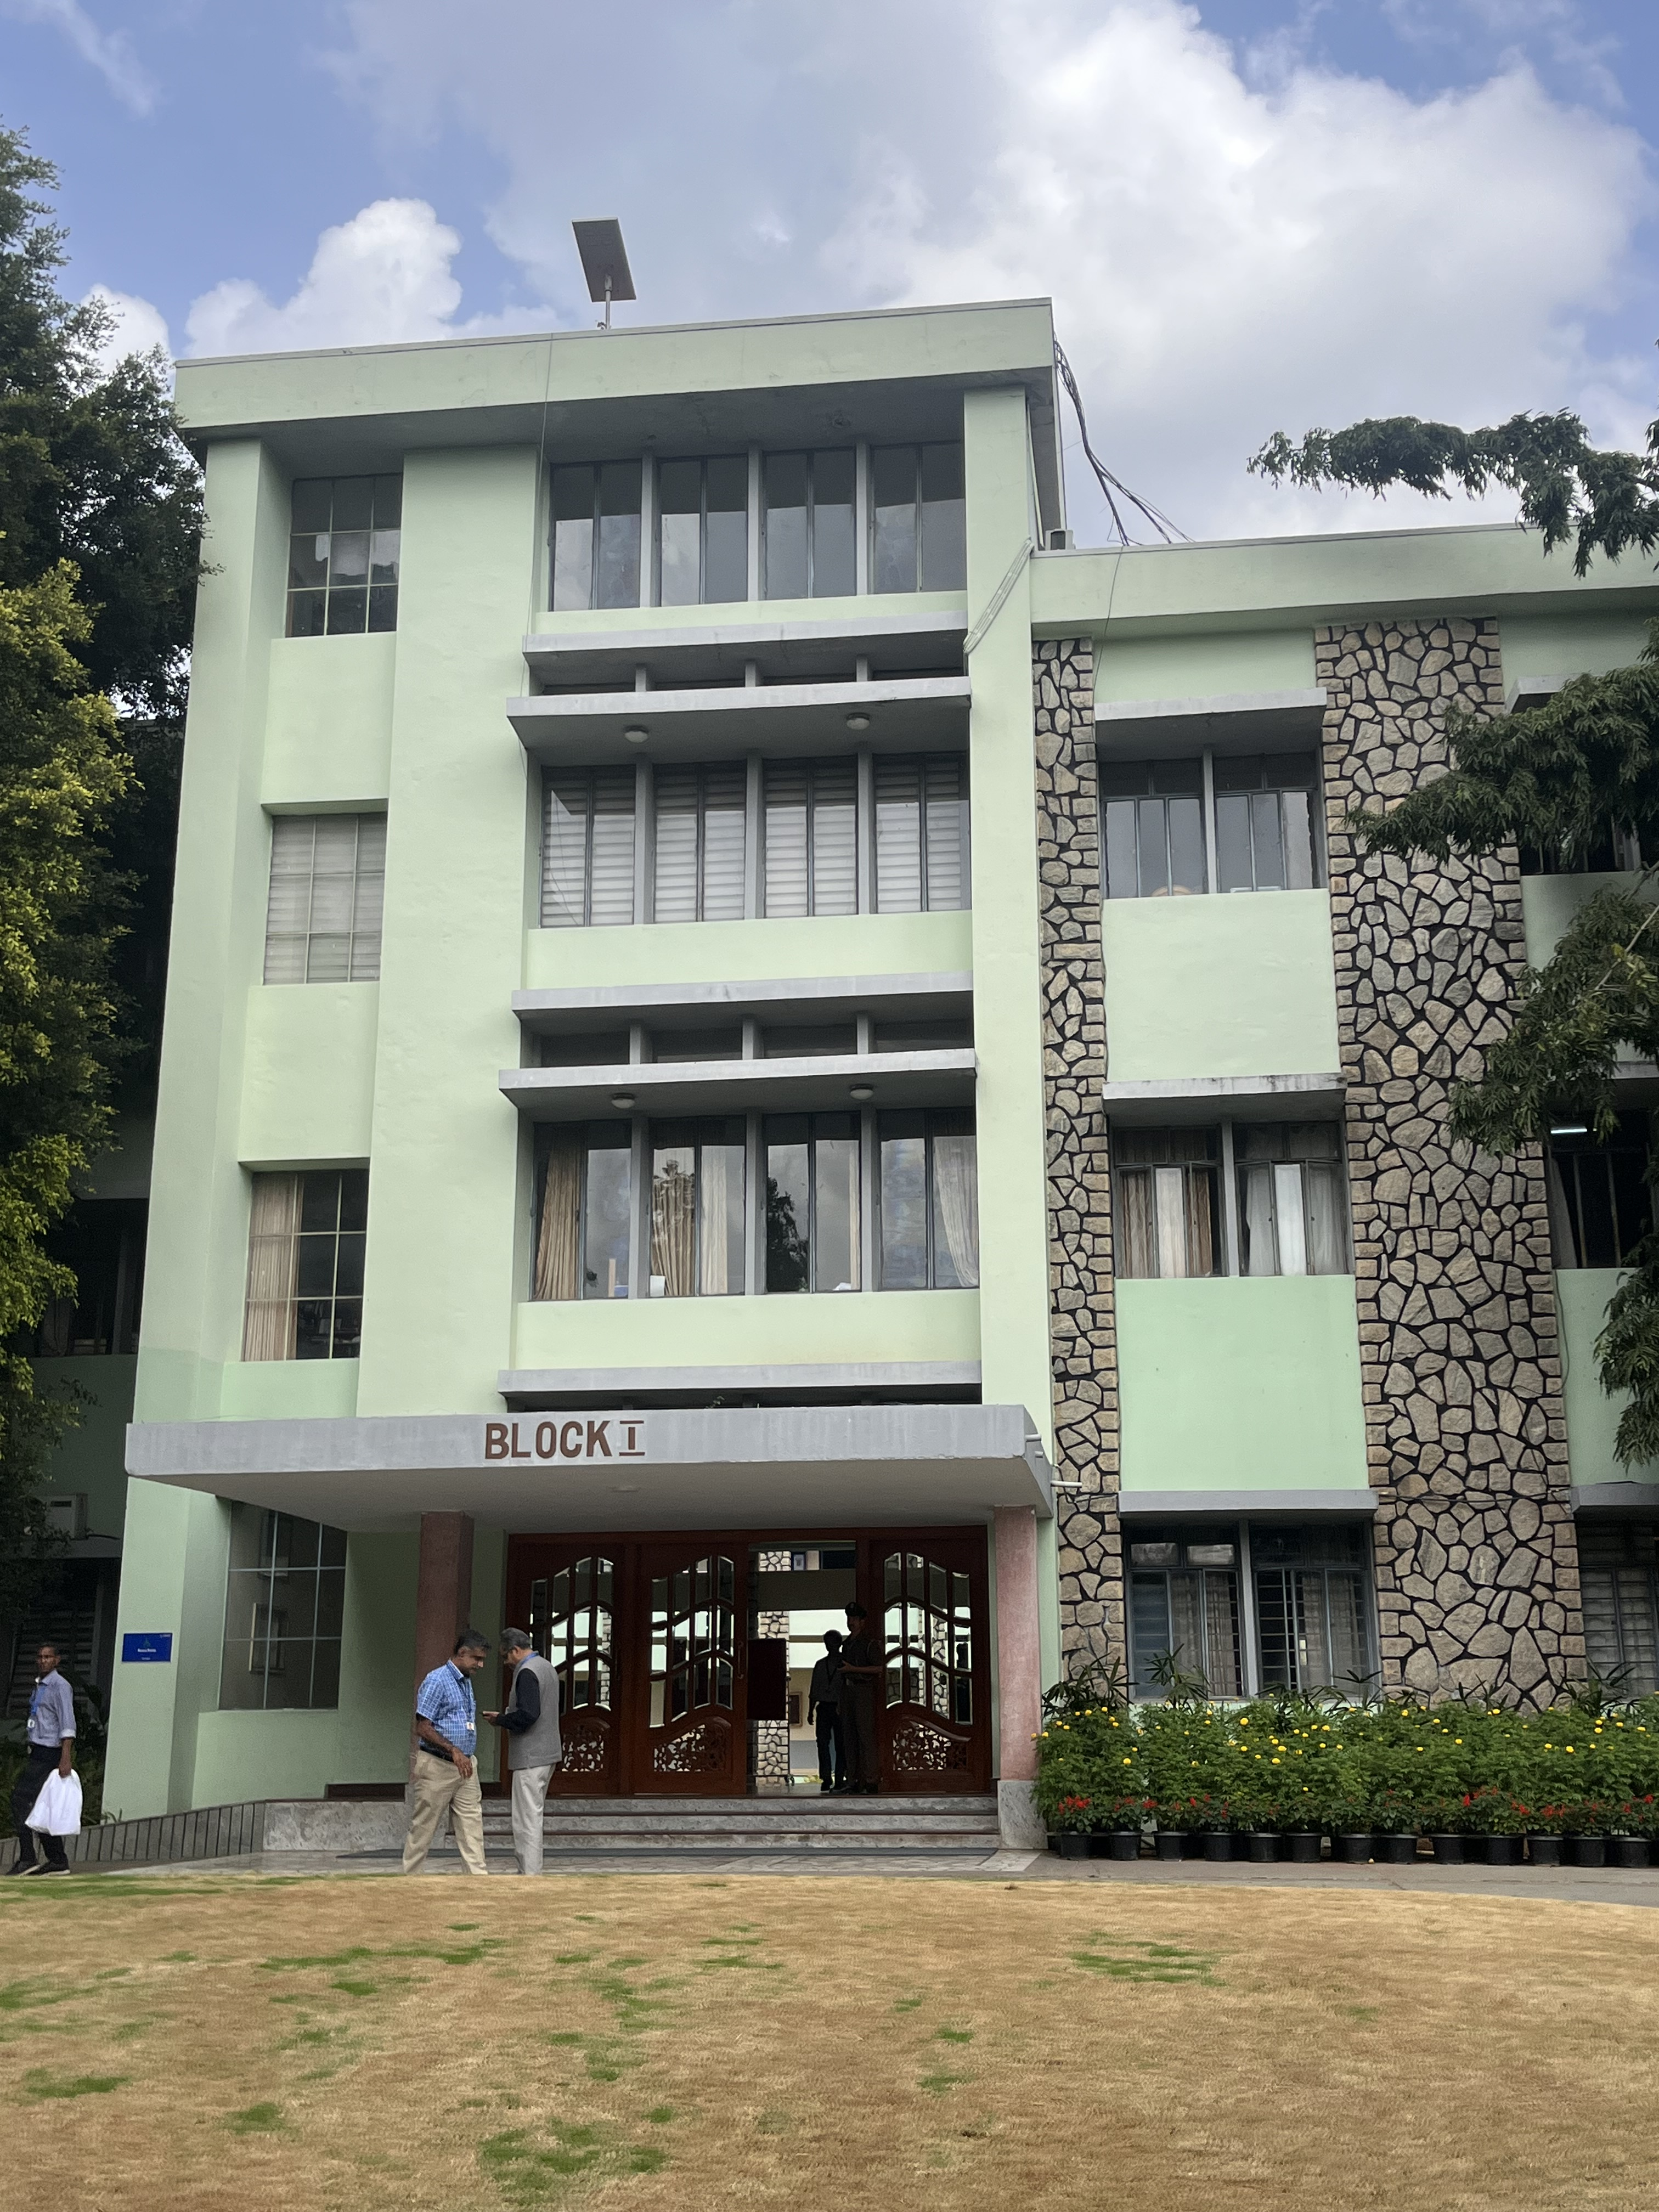Block 1: (108, 312, 1659, 1857)
